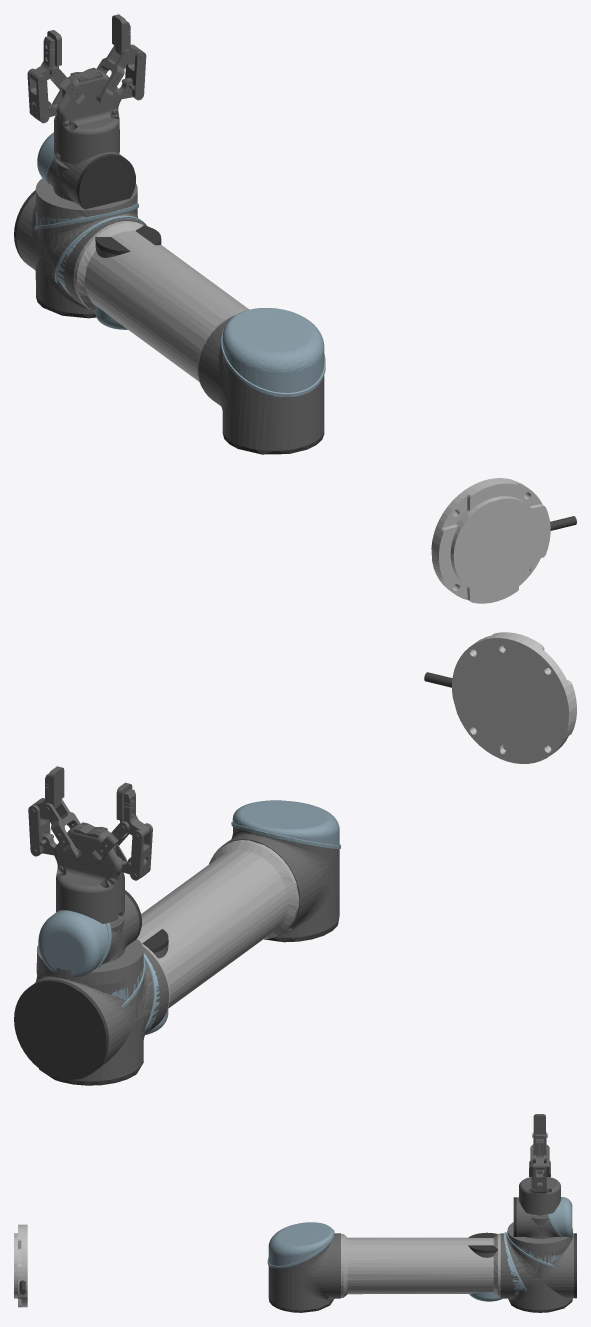
3 renders of one model, top to bottom at view 1: azimuth 30°, elevation 25°; view 2: azimuth 150°, elevation 25°; view 3: azimuth 270°, elevation 25°, orthographic. The views are drawn at different scales.
Visible parts, largest first — view 1: upper_arm_link, offset_link, wrist_3_link, shoulder_link, wrist_1_link, wrist_2_link; view 2: upper_arm_link, offset_link, shoulder_link, wrist_3_link, wrist_1_link, wrist_2_link; view 3: upper_arm_link, shoulder_link, wrist_3_link, wrist_1_link, offset_link, wrist_2_link.
Boxes of the visible parts, x1=… form: upper_arm_link: x1=34, y1=200, x2=325, y2=454; offset_link: x1=431, y1=478, x2=576, y2=603; wrist_3_link: x1=27, y1=14, x2=146, y2=199; shoulder_link: x1=14, y1=178, x2=146, y2=294; wrist_1_link: x1=37, y1=132, x2=135, y2=209; wrist_2_link: x1=95, y1=225, x2=161, y2=329; upper_arm_link: x1=37, y1=800, x2=340, y2=1085; offset_link: x1=424, y1=632, x2=576, y2=763; shoulder_link: x1=14, y1=939, x2=159, y2=1080; wrist_3_link: x1=28, y1=766, x2=152, y2=961; wrist_1_link: x1=38, y1=890, x2=141, y2=977; wrist_2_link: x1=142, y1=929, x2=168, y2=1034; upper_arm_link: x1=267, y1=1222, x2=572, y2=1312; shoulder_link: x1=503, y1=1222, x2=576, y2=1298; wrist_3_link: x1=519, y1=1114, x2=560, y2=1238; wrist_1_link: x1=513, y1=1197, x2=572, y2=1238; offset_link: x1=14, y1=1224, x2=27, y2=1307; wrist_2_link: x1=468, y1=1232, x2=502, y2=1301.
Size of the model in its own units: 0.1834 by 0.3498 by 1.
